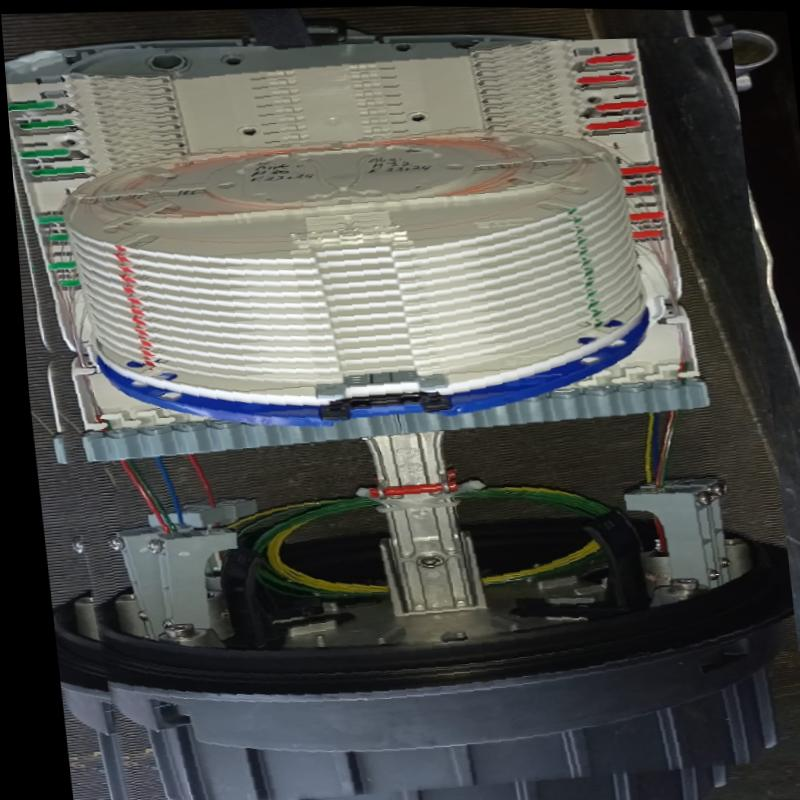NT-Muffen: (1, 25, 800, 800)
